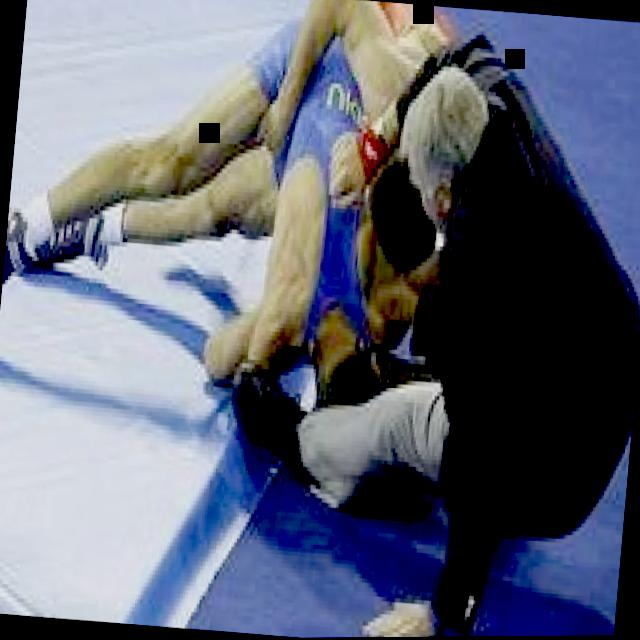Fall-Detected: (299, 14, 640, 584)
